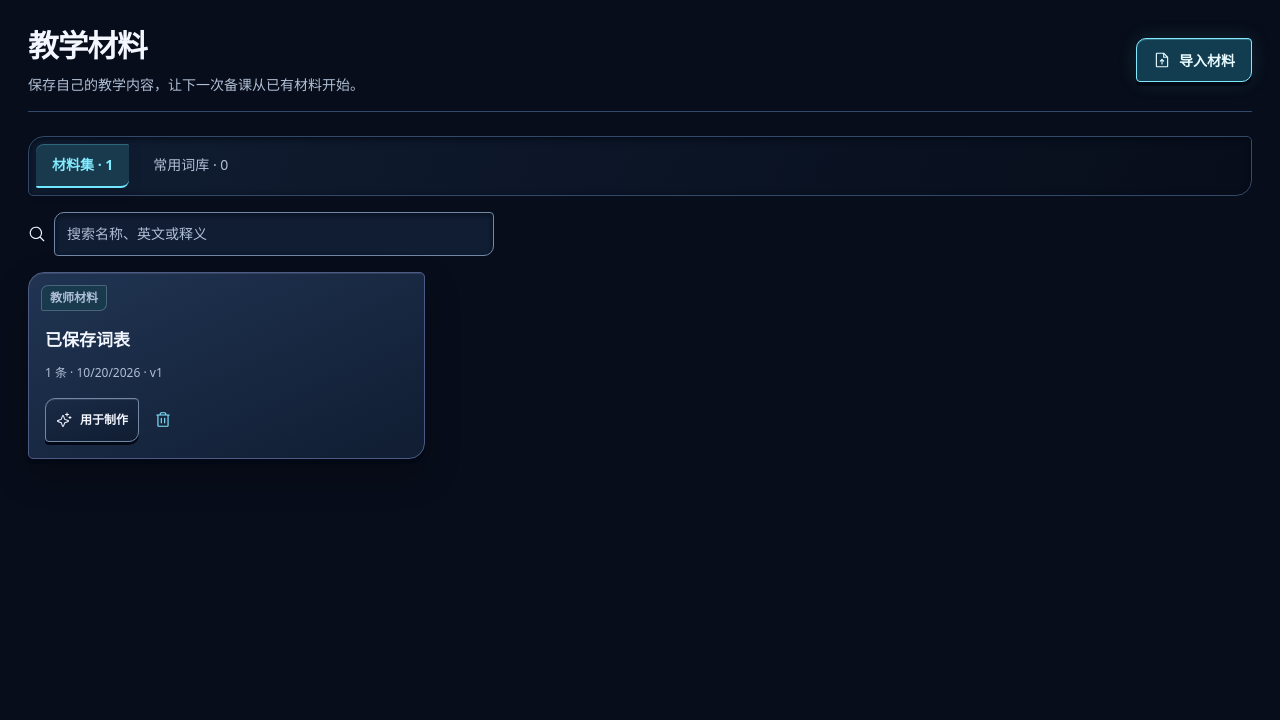
Test case: 材料详情关闭或 Esc 先保护修改，继续编辑不丢输入，明确放弃不改已保存材料
The image size is (1280, 720).
Click the button "用于制作".
click(92, 420)  # box [45,398,139,442]
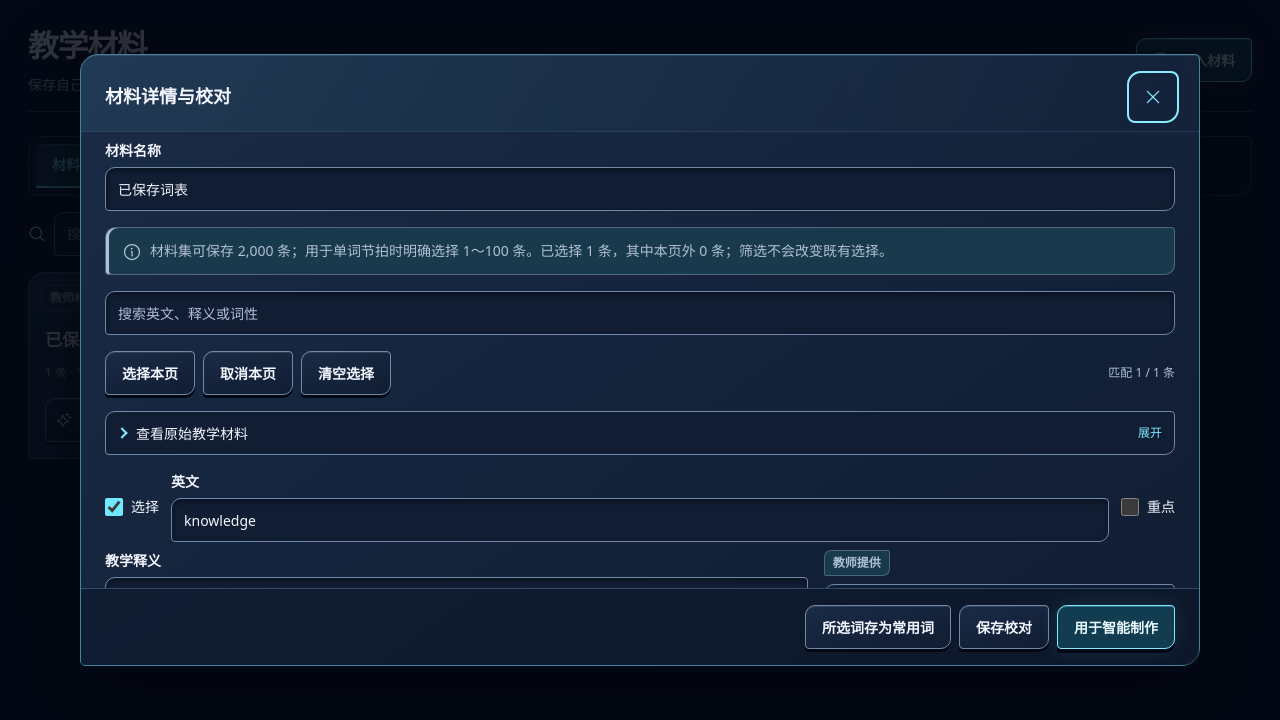
Replace the text in the field labelled "材料名称" with "尚未保存的新名称" at (640, 189), box [105,167,1175,211]
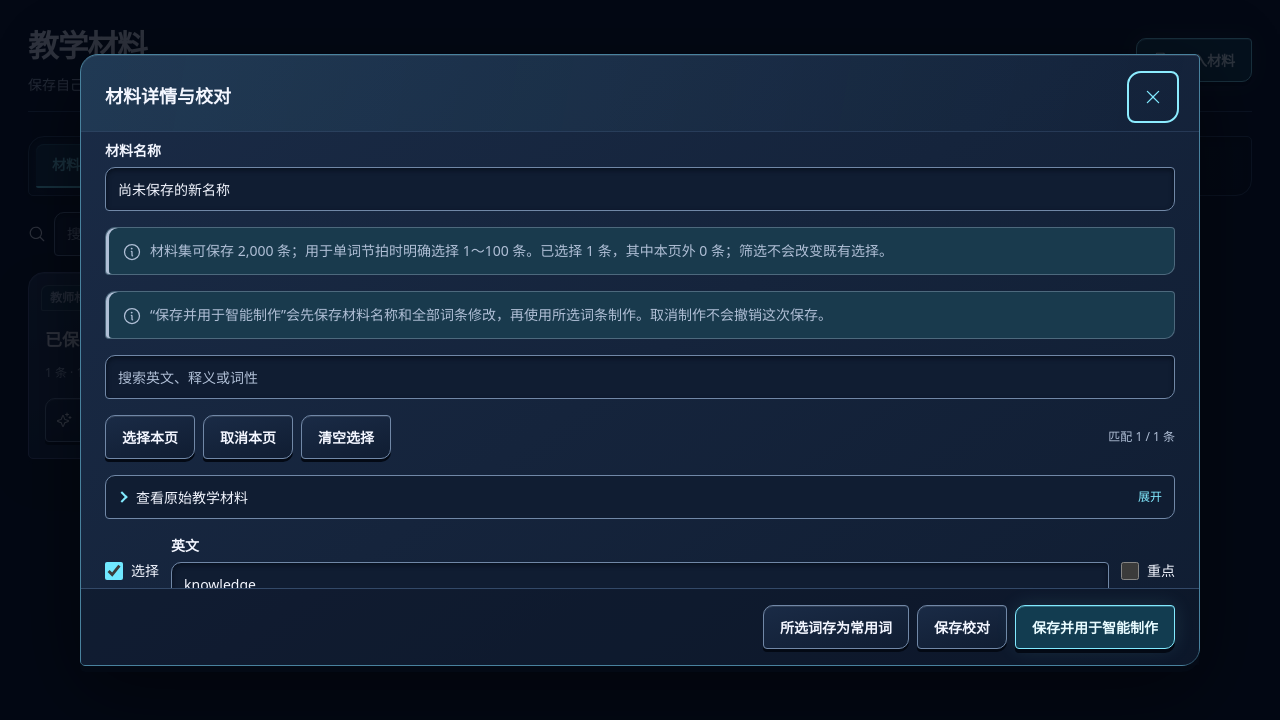
Press Escape in the field labelled "材料名称", box [105,167,1175,211]
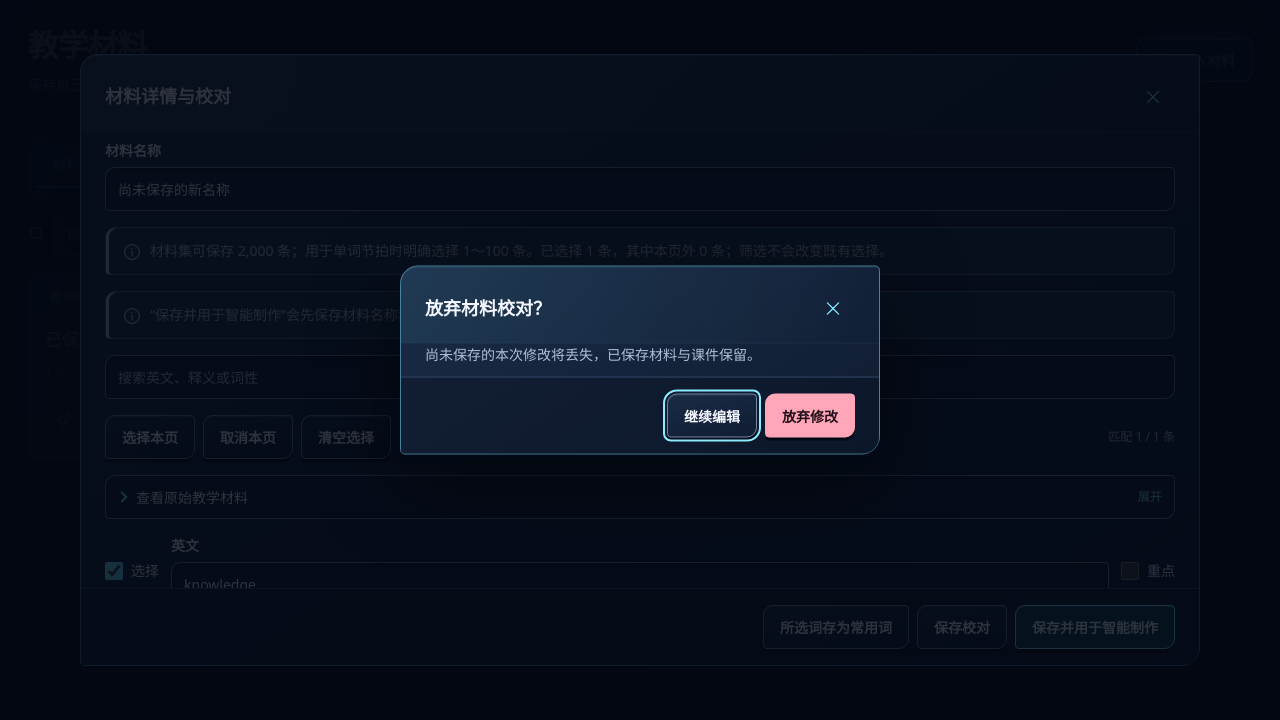
Click the button "继续编辑".
click(712, 416)  # box [667,394,757,438]
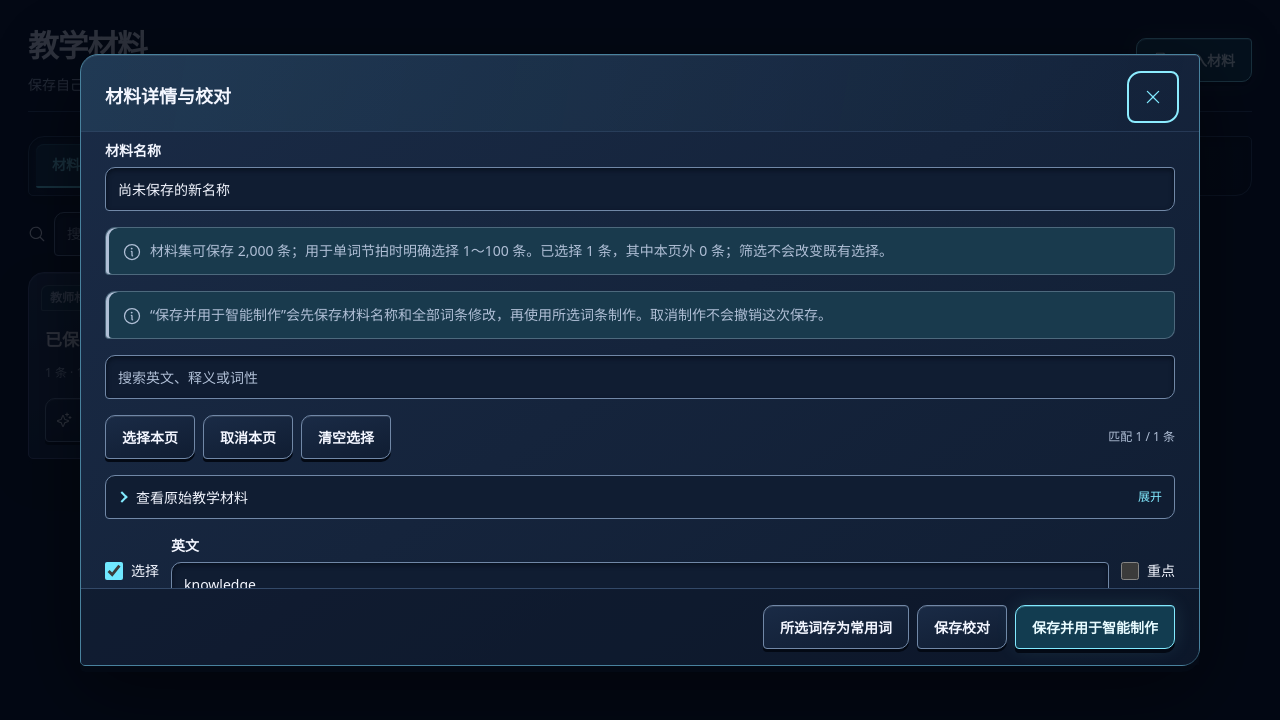
Click the button named "关闭对话框".
click(1153, 97)  # box [1131,75,1175,119]
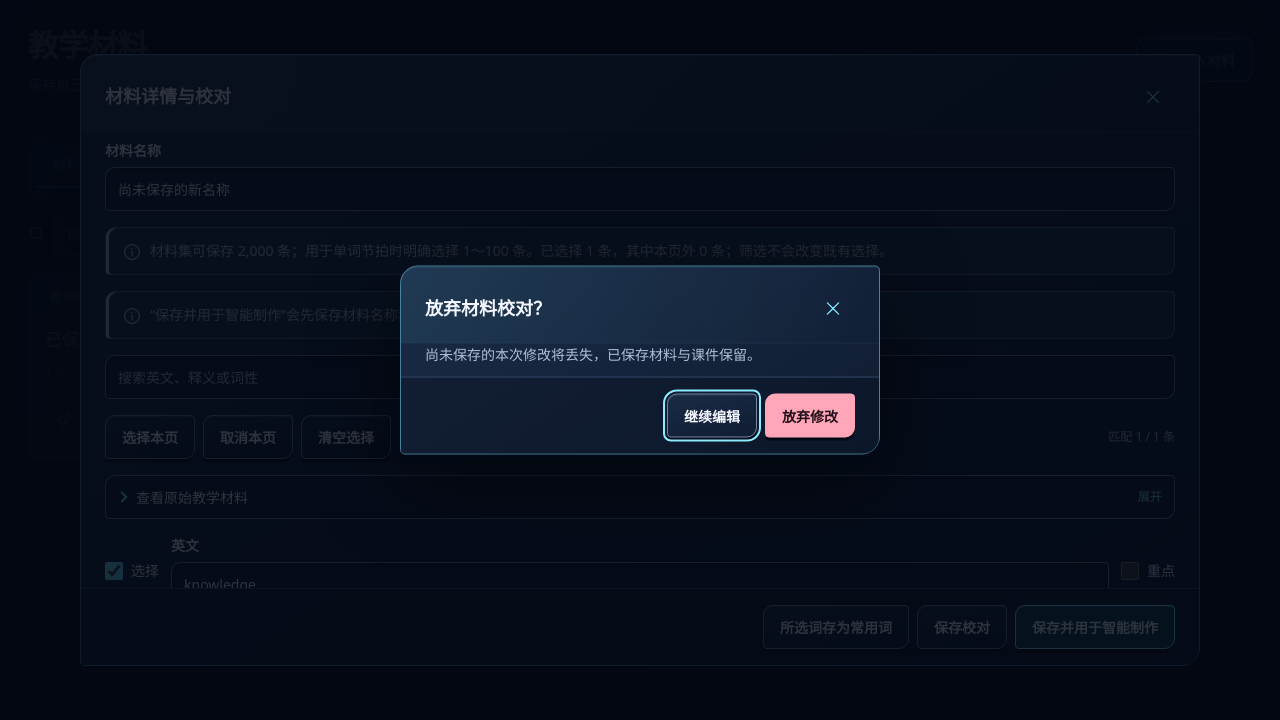
Click the button "放弃修改".
click(810, 416)  # box [765,394,855,438]
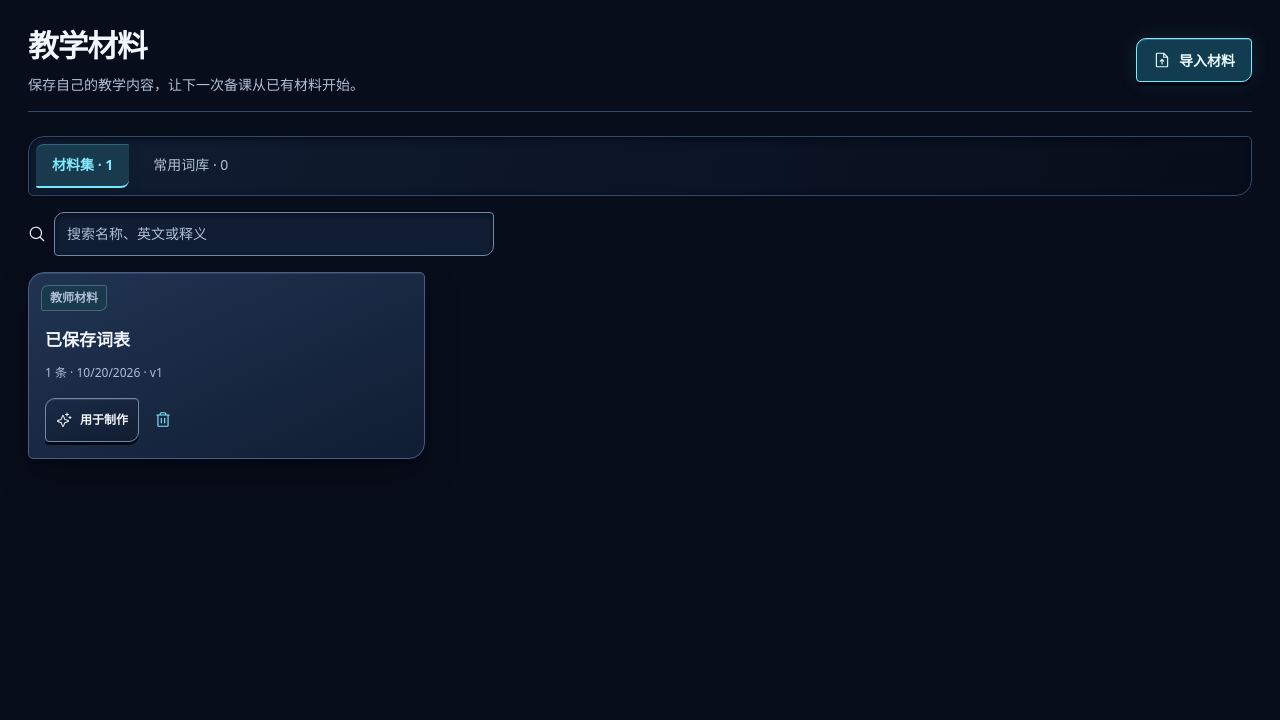
Check: the heading "已保存词表" is shown, box [45,327,130,352]
Check: the dialog is gone
